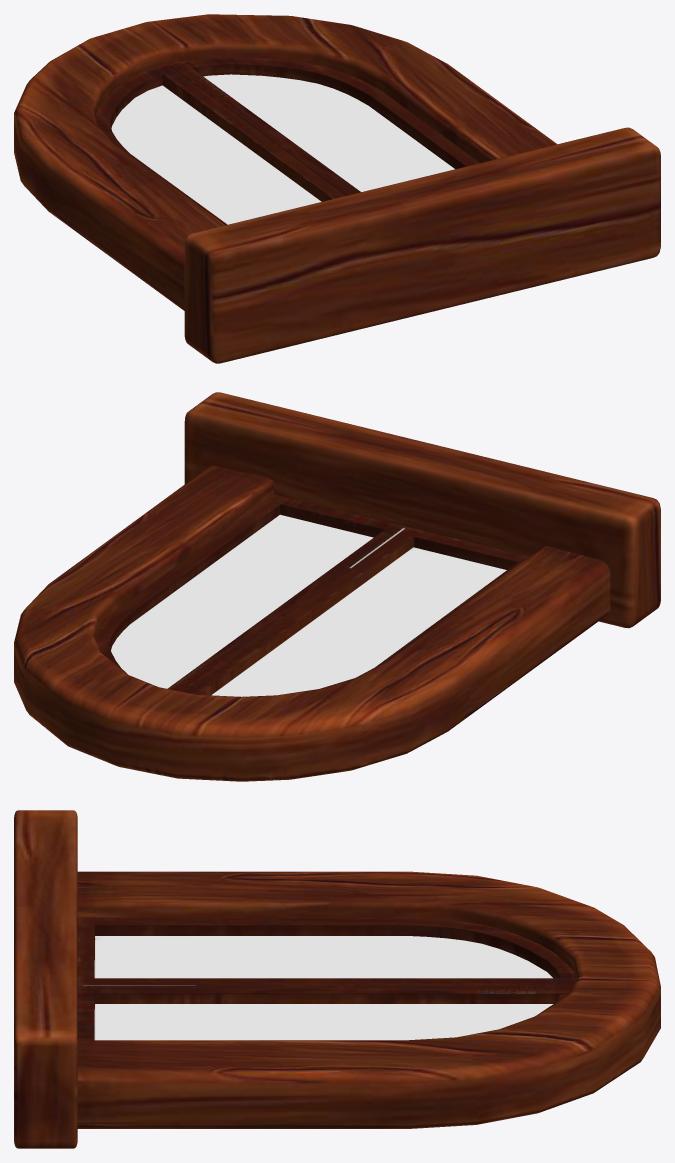
File: Ventana Semicirculo Fin.FBX
3 views of the same model, one above another, from view 1: azimuth 30°, elevation 25°; view 2: azimuth 150°, elevation 25°; view 3: azimuth 270°, elevation 25° (orthographic). The views are drawn at different scales.
Parts seen in each view (by area): view 1: Ventana del Semicirculo; view 2: Ventana del Semicirculo; view 3: Ventana del Semicirculo.
Boxes of the visible parts, left/top/right/bottom form: Ventana del Semicirculo: left=14, top=14, right=660, bottom=363; Ventana del Semicirculo: left=14, top=392, right=660, bottom=781; Ventana del Semicirculo: left=14, top=810, right=660, bottom=1148.
Size of the model in its own units: 41.98 by 9.83 by 50.06.
1 material, 1 textured.
